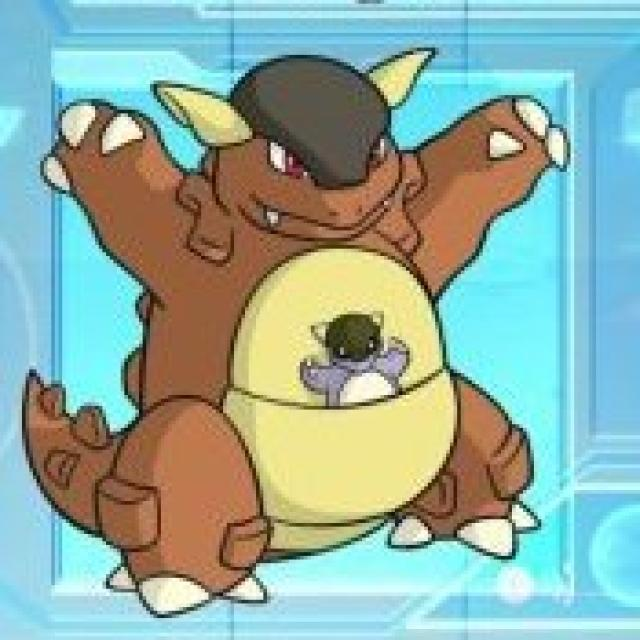Kangaskhan: (63, 67, 569, 603)
